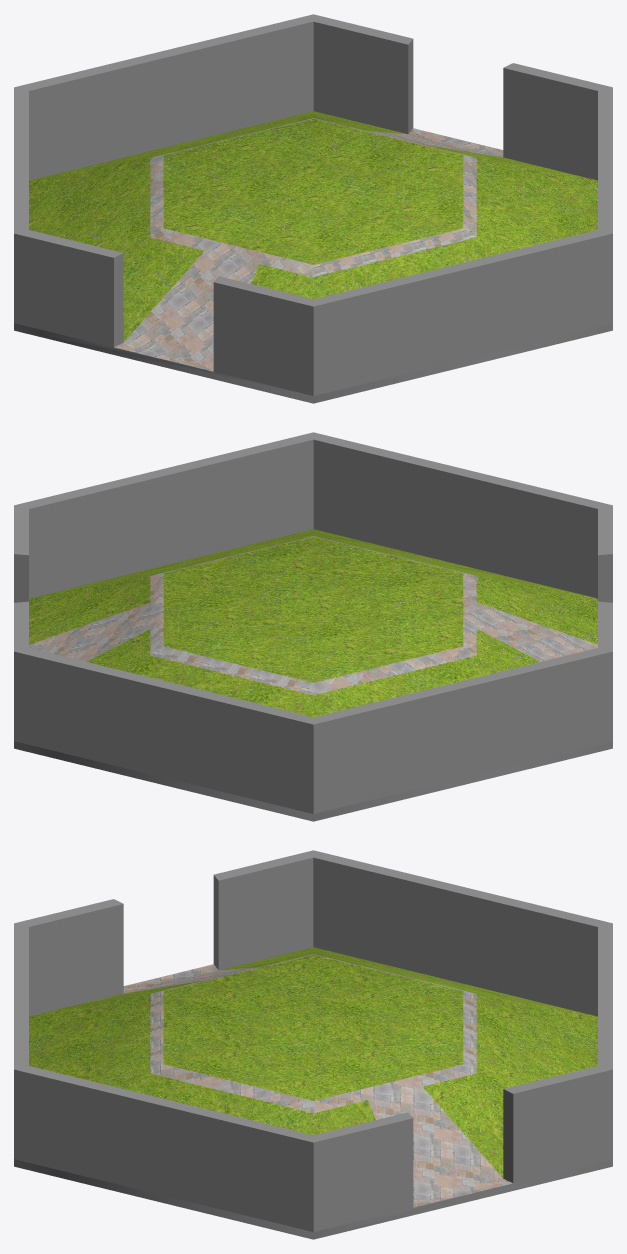
The picture shows the model from 3 angles, top to bottom: view 1: azimuth 30°, elevation 25°; view 2: azimuth 150°, elevation 25°; view 3: azimuth 270°, elevation 25°; orthographic projection.
Visible parts, largest first — view 1: Cylinder009; view 2: Cylinder009; view 3: Cylinder009.
Part boxes in pixels (<box>): Cylinder009: <box>14,14,612,403</box>; Cylinder009: <box>14,432,612,821</box>; Cylinder009: <box>14,850,612,1239</box>.
Size of the model in its own units: 140 by 21.68 by 121.
5 materials, 2 textured.
